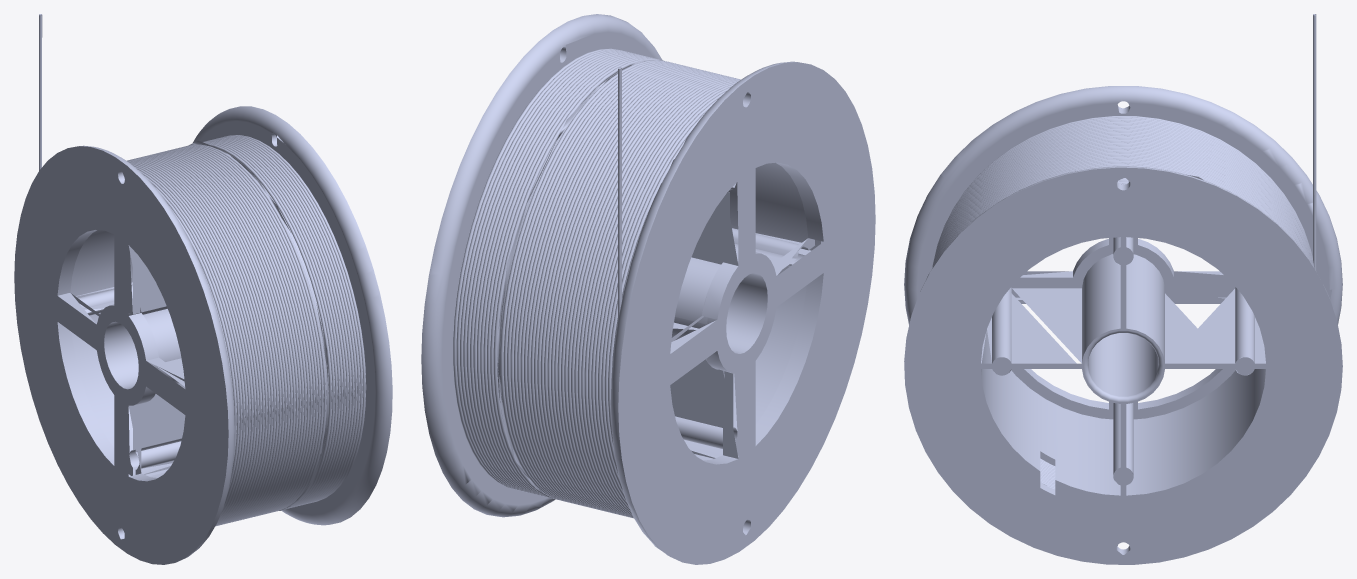
Rendered from Wire Spool out.glb.
The picture shows the model from 3 angles, left to right: view 1: azimuth 30°, elevation 25°; view 2: azimuth 150°, elevation 25°; view 3: azimuth 270°, elevation 25°; orthographic projection. The views are drawn at different scales.
Visible parts, largest first — view 1: Solidcore 1 lb, .03 diameter steel wire, Solidcore 1 lb, .03 diameter steel wire037, Solidcore 1 lb, .03 diameter steel wire021, Solidcore 1 lb, .03 diameter steel wire047, Solidcore 1 lb, .03 diameter steel wire022, Solidcore 1 lb, .03 diameter steel wire031, Solidcore 1 lb, .03 diameter steel wire016, Solidcore 1 lb, .03 diameter steel wire032, Solidcore 1 lb, .03 diameter steel wire042, Solidcore 1 lb, .03 diameter steel wire041, Solidcore 1 lb, .03 diameter steel wire046, Solidcore 1 lb, .03 diameter steel wire048 (+37 smaller); view 2: Solidcore 1 lb, .03 diameter steel wire, Solidcore 1 lb, .03 diameter steel wire037, Solidcore 1 lb, .03 diameter steel wire048, Solidcore 1 lb, .03 diameter steel wire044, Solidcore 1 lb, .03 diameter steel wire049, Solidcore 1 lb, .03 diameter steel wire042, Solidcore 1 lb, .03 diameter steel wire046, Solidcore 1 lb, .03 diameter steel wire043, Solidcore 1 lb, .03 diameter steel wire038, Solidcore 1 lb, .03 diameter steel wire041, Solidcore 1 lb, .03 diameter steel wire039, Solidcore 1 lb, .03 diameter steel wire045 (+37 smaller); view 3: Solidcore 1 lb, .03 diameter steel wire, Solidcore 1 lb, .03 diameter steel wire050, Solidcore 1 lb, .03 diameter steel wire003, Solidcore 1 lb, .03 diameter steel wire004, Solidcore 1 lb, .03 diameter steel wire002, Solidcore 1 lb, .03 diameter steel wire001, Solidcore 1 lb, .03 diameter steel wire005, Solidcore 1 lb, .03 diameter steel wire013, Solidcore 1 lb, .03 diameter steel wire008, Solidcore 1 lb, .03 diameter steel wire012, Solidcore 1 lb, .03 diameter steel wire010, Solidcore 1 lb, .03 diameter steel wire011 (+20 smaller).
Part boxes in pixels (left/top/right/bottom): Solidcore 1 lb, .03 diameter steel wire: left=14, top=106, right=392, bottom=564; Solidcore 1 lb, .03 diameter steel wire037: left=206, top=143, right=332, bottom=509; Solidcore 1 lb, .03 diameter steel wire021: left=150, top=154, right=287, bottom=520; Solidcore 1 lb, .03 diameter steel wire047: left=223, top=136, right=360, bottom=503; Solidcore 1 lb, .03 diameter steel wire022: left=153, top=153, right=290, bottom=520; Solidcore 1 lb, .03 diameter steel wire031: left=178, top=147, right=315, bottom=514; Solidcore 1 lb, .03 diameter steel wire016: left=136, top=157, right=273, bottom=524; Solidcore 1 lb, .03 diameter steel wire032: left=181, top=146, right=318, bottom=513; Solidcore 1 lb, .03 diameter steel wire042: left=209, top=140, right=346, bottom=506; Solidcore 1 lb, .03 diameter steel wire041: left=207, top=140, right=343, bottom=507; Solidcore 1 lb, .03 diameter steel wire046: left=220, top=137, right=357, bottom=503; Solidcore 1 lb, .03 diameter steel wire048: left=226, top=135, right=363, bottom=502; Solidcore 1 lb, .03 diameter steel wire: left=421, top=14, right=875, bottom=564; Solidcore 1 lb, .03 diameter steel wire037: left=493, top=58, right=659, bottom=499; Solidcore 1 lb, .03 diameter steel wire048: left=456, top=49, right=625, bottom=488; Solidcore 1 lb, .03 diameter steel wire044: left=470, top=52, right=638, bottom=491; Solidcore 1 lb, .03 diameter steel wire049: left=453, top=48, right=621, bottom=487; Solidcore 1 lb, .03 diameter steel wire042: left=477, top=54, right=645, bottom=493; Solidcore 1 lb, .03 diameter steel wire046: left=463, top=51, right=632, bottom=490; Solidcore 1 lb, .03 diameter steel wire043: left=473, top=53, right=642, bottom=492; Solidcore 1 lb, .03 diameter steel wire038: left=490, top=57, right=658, bottom=496; Solidcore 1 lb, .03 diameter steel wire041: left=480, top=55, right=649, bottom=494; Solidcore 1 lb, .03 diameter steel wire039: left=487, top=57, right=655, bottom=496; Solidcore 1 lb, .03 diameter steel wire045: left=466, top=52, right=635, bottom=493; Solidcore 1 lb, .03 diameter steel wire: left=904, top=86, right=1342, bottom=564; Solidcore 1 lb, .03 diameter steel wire050: left=932, top=14, right=1316, bottom=271; Solidcore 1 lb, .03 diameter steel wire003: left=933, top=120, right=1313, bottom=267; Solidcore 1 lb, .03 diameter steel wire004: left=934, top=121, right=1313, bottom=266; Solidcore 1 lb, .03 diameter steel wire002: left=933, top=118, right=1313, bottom=267; Solidcore 1 lb, .03 diameter steel wire001: left=933, top=117, right=1314, bottom=267; Solidcore 1 lb, .03 diameter steel wire005: left=934, top=122, right=1312, bottom=265; Solidcore 1 lb, .03 diameter steel wire013: left=939, top=134, right=1307, bottom=469; Solidcore 1 lb, .03 diameter steel wire008: left=935, top=127, right=1311, bottom=263; Solidcore 1 lb, .03 diameter steel wire012: left=938, top=132, right=1308, bottom=468; Solidcore 1 lb, .03 diameter steel wire010: left=937, top=129, right=1310, bottom=464; Solidcore 1 lb, .03 diameter steel wire011: left=938, top=131, right=1309, bottom=466.
Bounding box in the file's own units: 0.0446 × 0.1204 × 0.1009.
